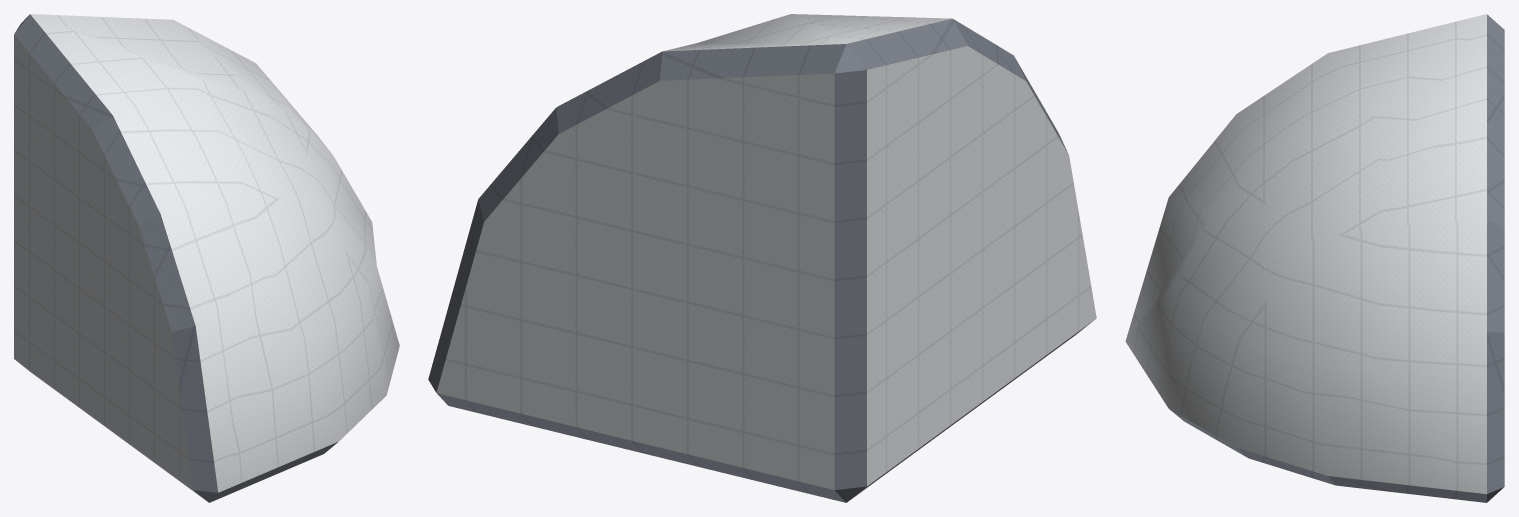
The model's file is R4B_RoundCorner_LOD1.glb.
The picture shows the model from 3 angles, left to right: view 1: azimuth 30°, elevation 25°; view 2: azimuth 150°, elevation 25°; view 3: azimuth 270°, elevation 25°; orthographic projection. The views are drawn at different scales.
Visible parts, largest first — view 1: R4B_RoundCorner_LOD1; view 2: R4B_RoundCorner_LOD1; view 3: R4B_RoundCorner_LOD1.
Part boxes in pixels (x1,y1,x2,y2): R4B_RoundCorner_LOD1: (14,14,399,502); R4B_RoundCorner_LOD1: (428,14,1096,502); R4B_RoundCorner_LOD1: (1125,14,1504,502).
Bounding box in the file's own units: 0.5139 × 0.5139 × 0.5139.
2 materials, 2 textured.
